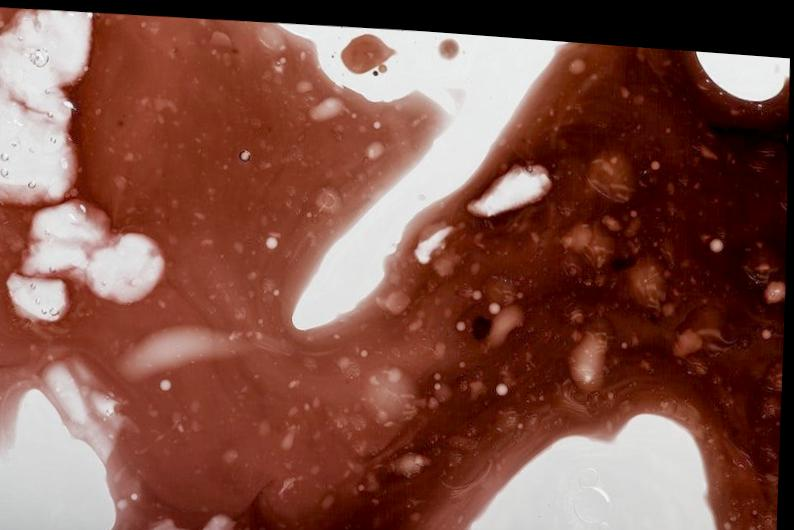Fire: (0, 9, 789, 530), (341, 26, 395, 67), (438, 29, 460, 51)
